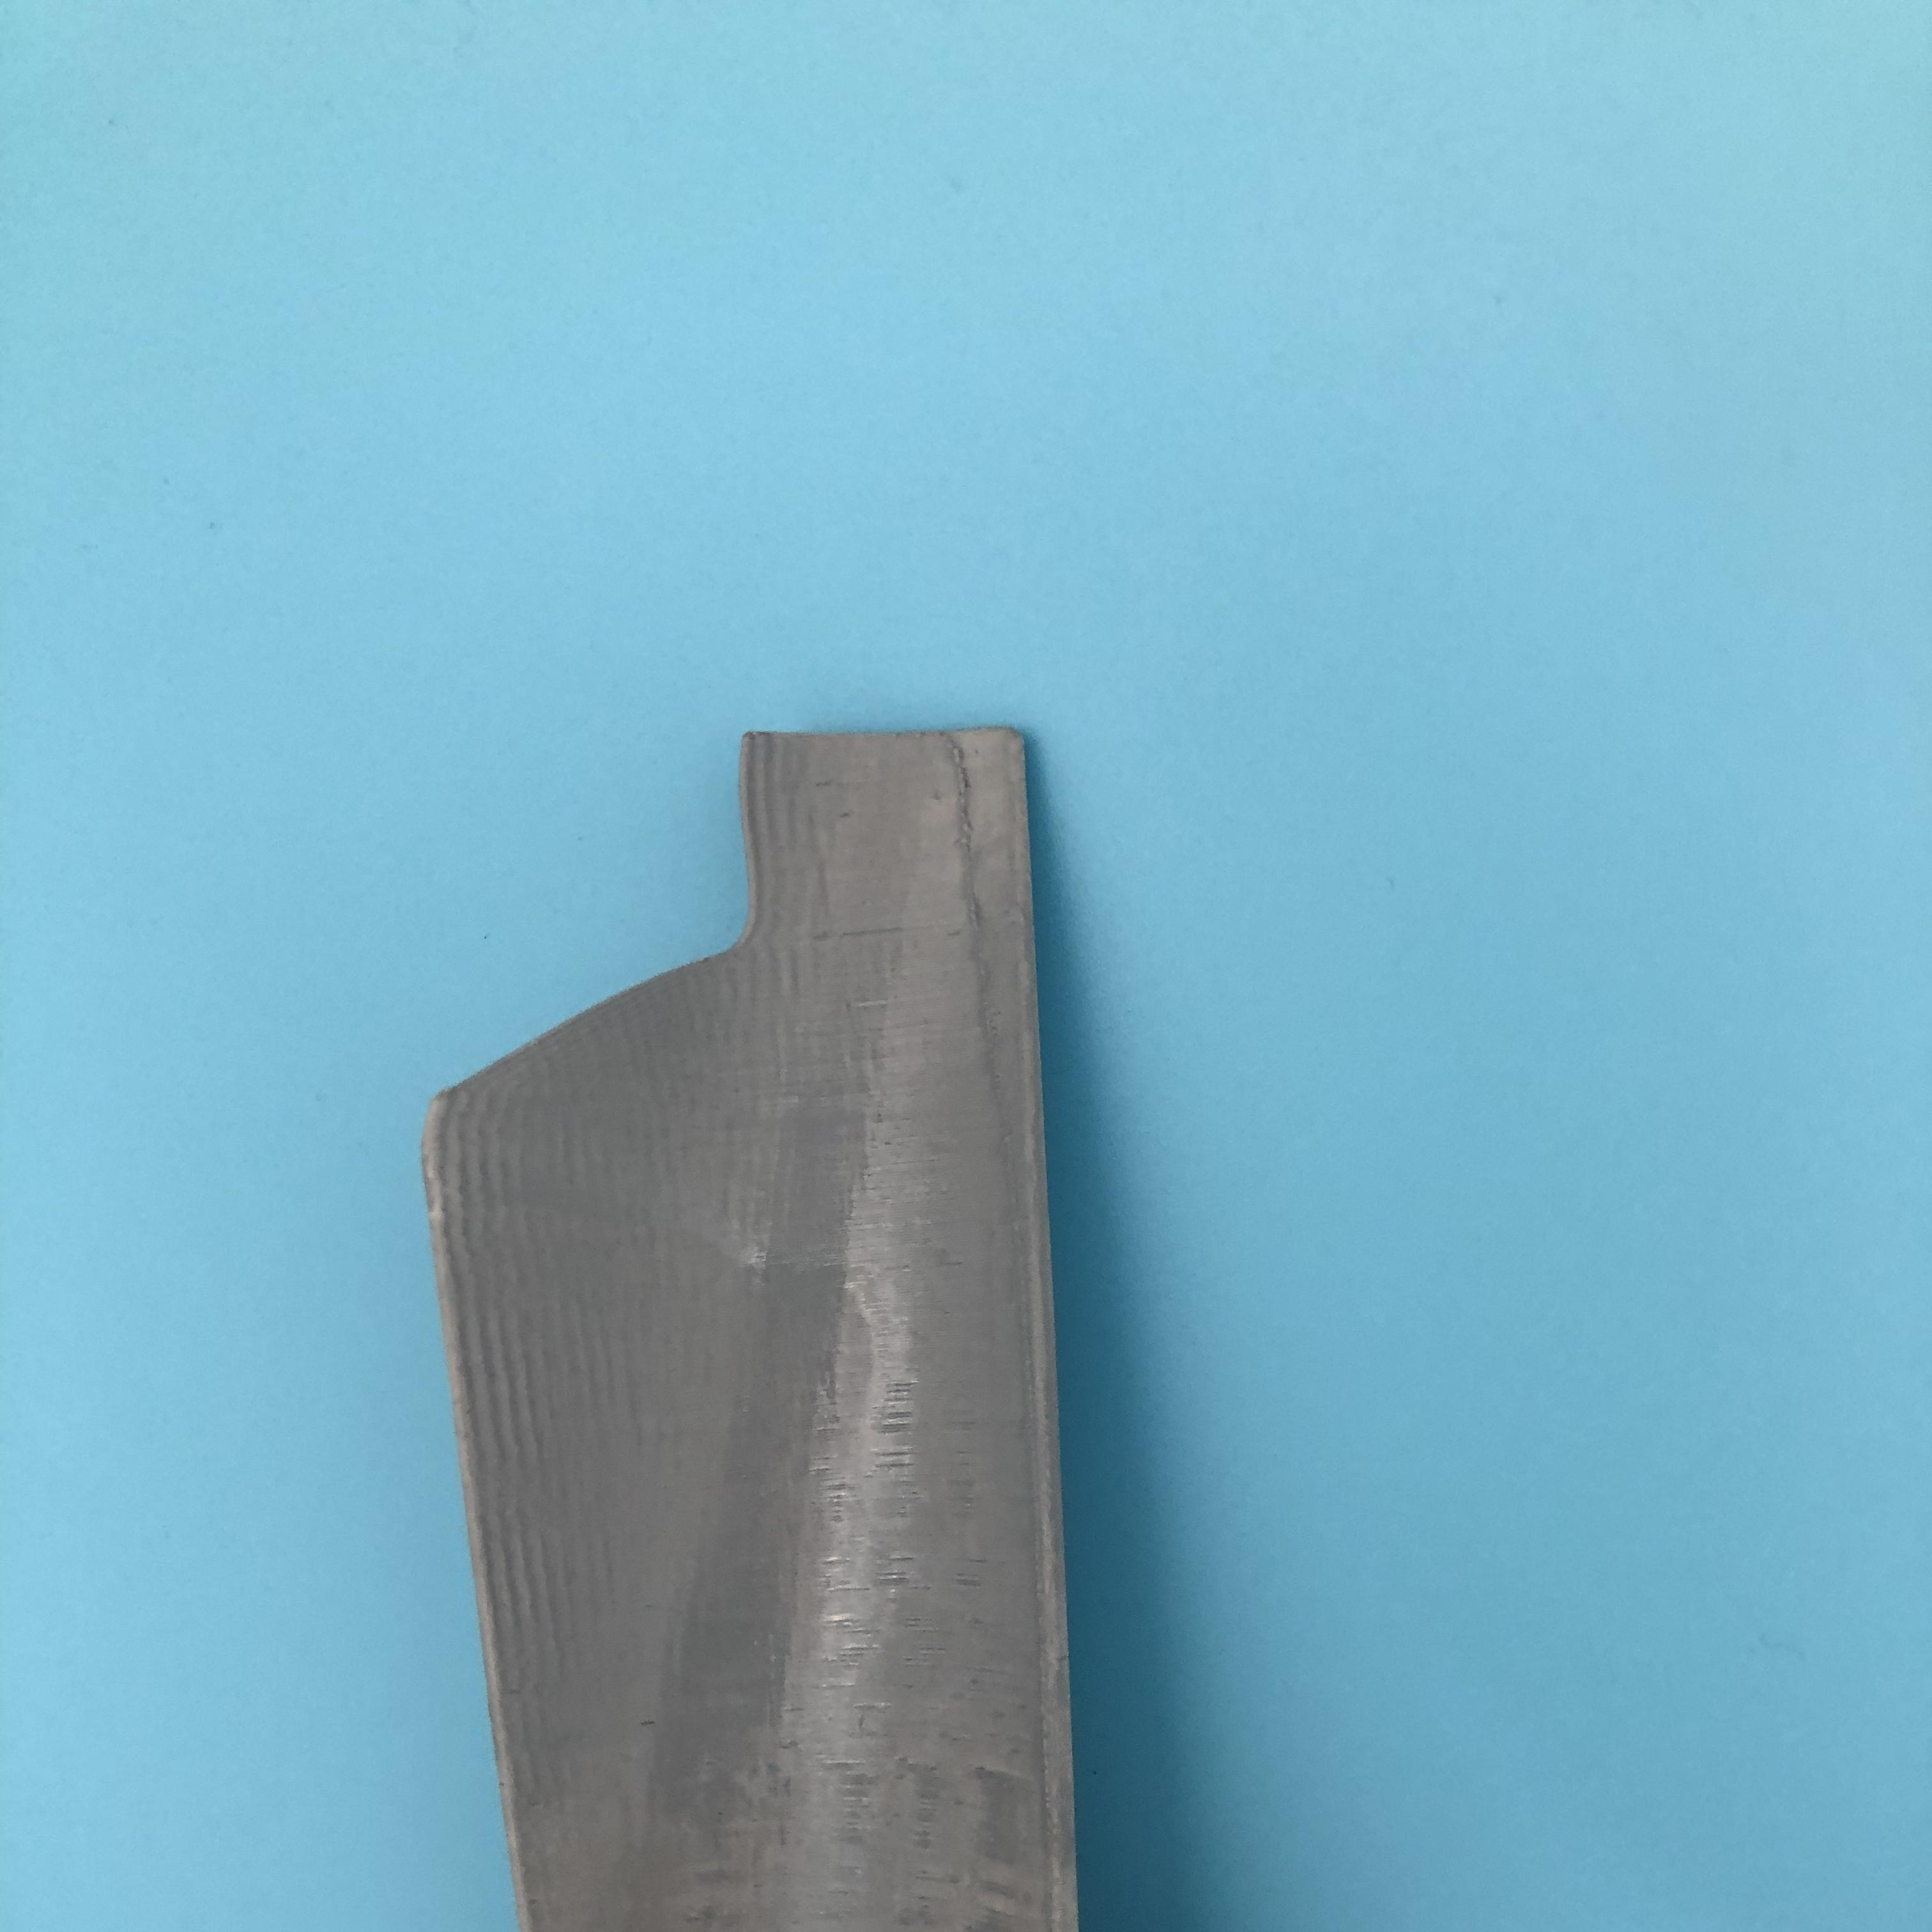fracture: (432, 754, 821, 1109)
